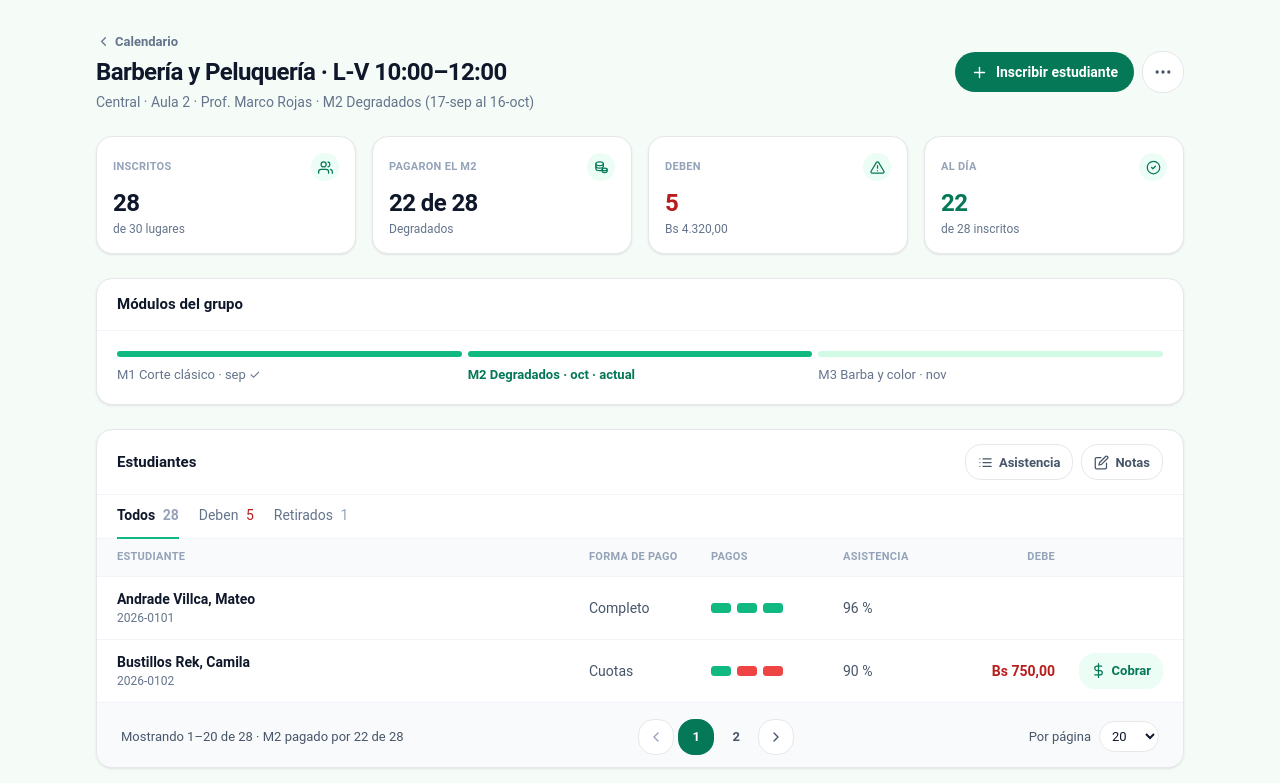
Test: Errores del backend con código (auditoría de octubre): el mensaje se muestra tal cual › GRUPO_CON_INSCRITOS (409) al cancelar: el mensaje del backend dice qué hacer y el grupo no queda cancelado
This screenshot has width=1280, height=783.
Click the button named "Más acciones del grupo": (1163, 72) [1142,51,1184,93]
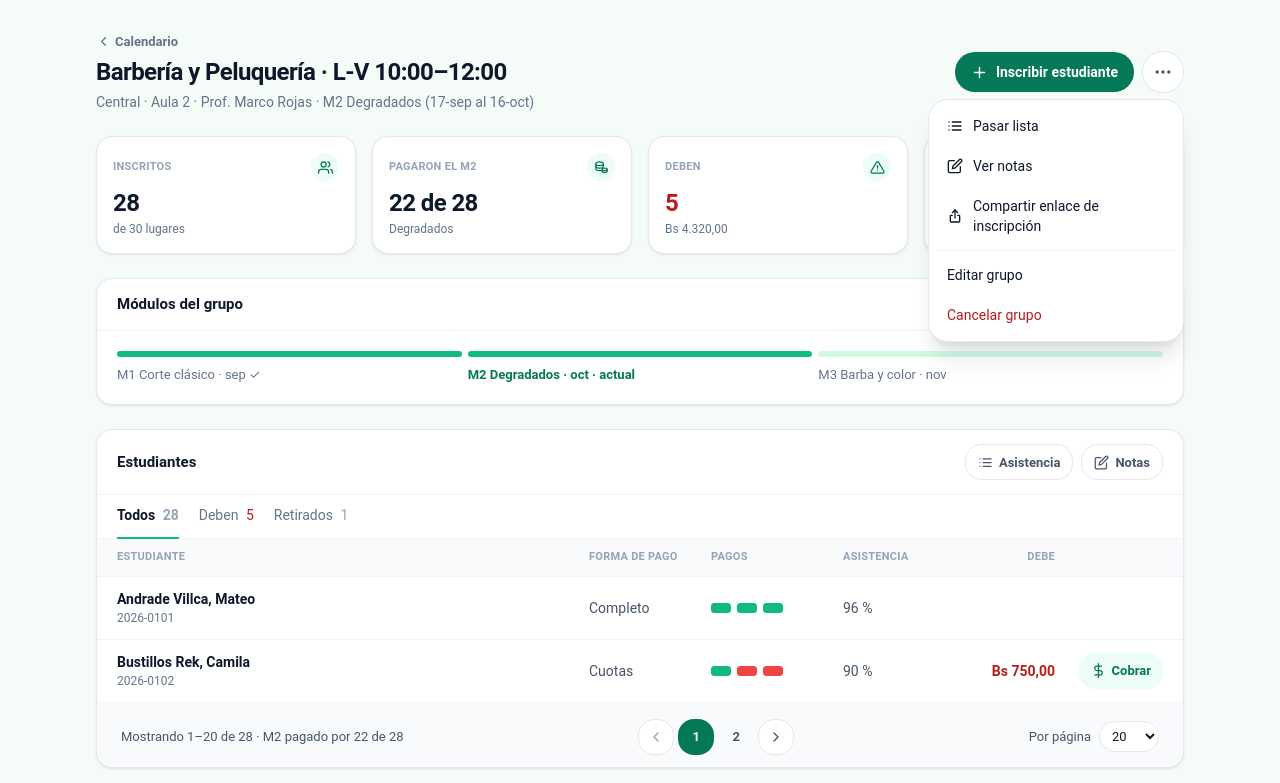
Click the menu item "Cancelar grupo": (1056, 315) [935,295,1177,335]
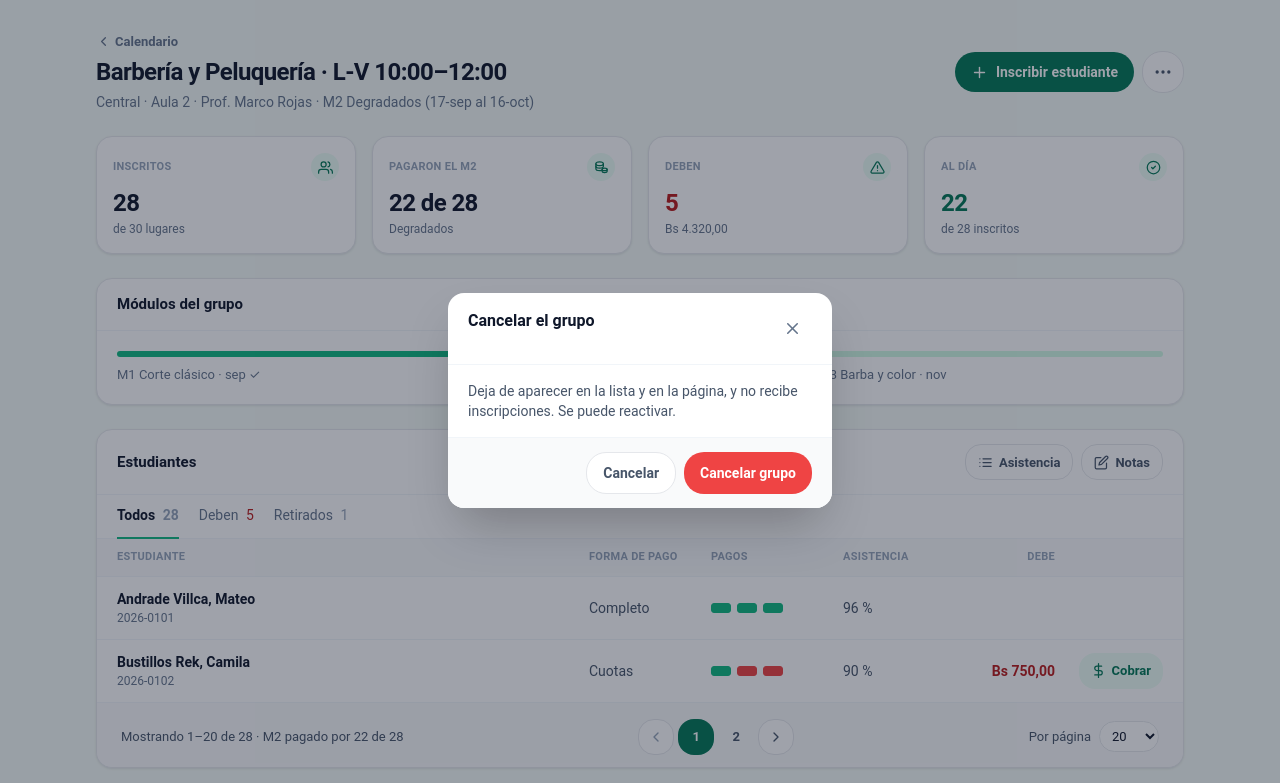
Click the button "Cancelar grupo": (748, 472) [684,452,812,494]
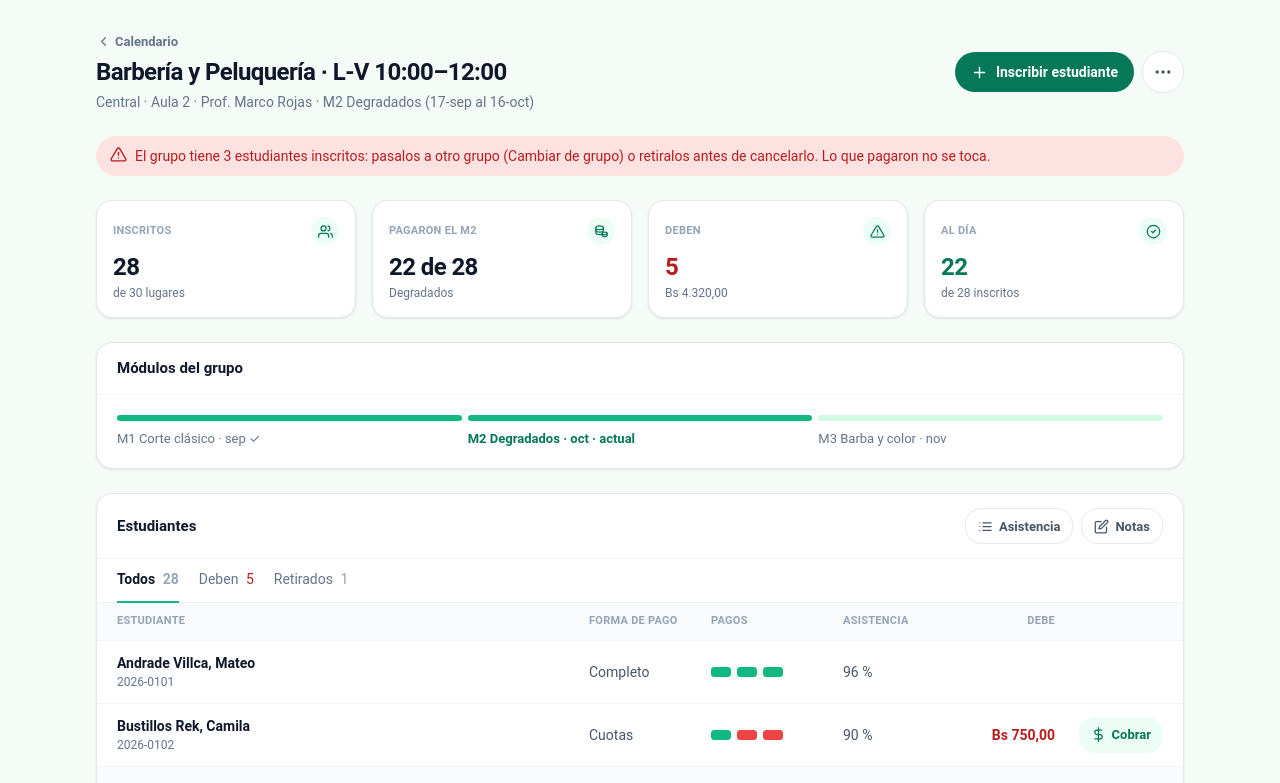
Expected: the text "El grupo tiene 3 estudiantes inscritos: pasalos a otro grupo (Cambiar de grupo) o retiralos antes de cancelarlo. Lo que " is shown, [135,148,990,164]
